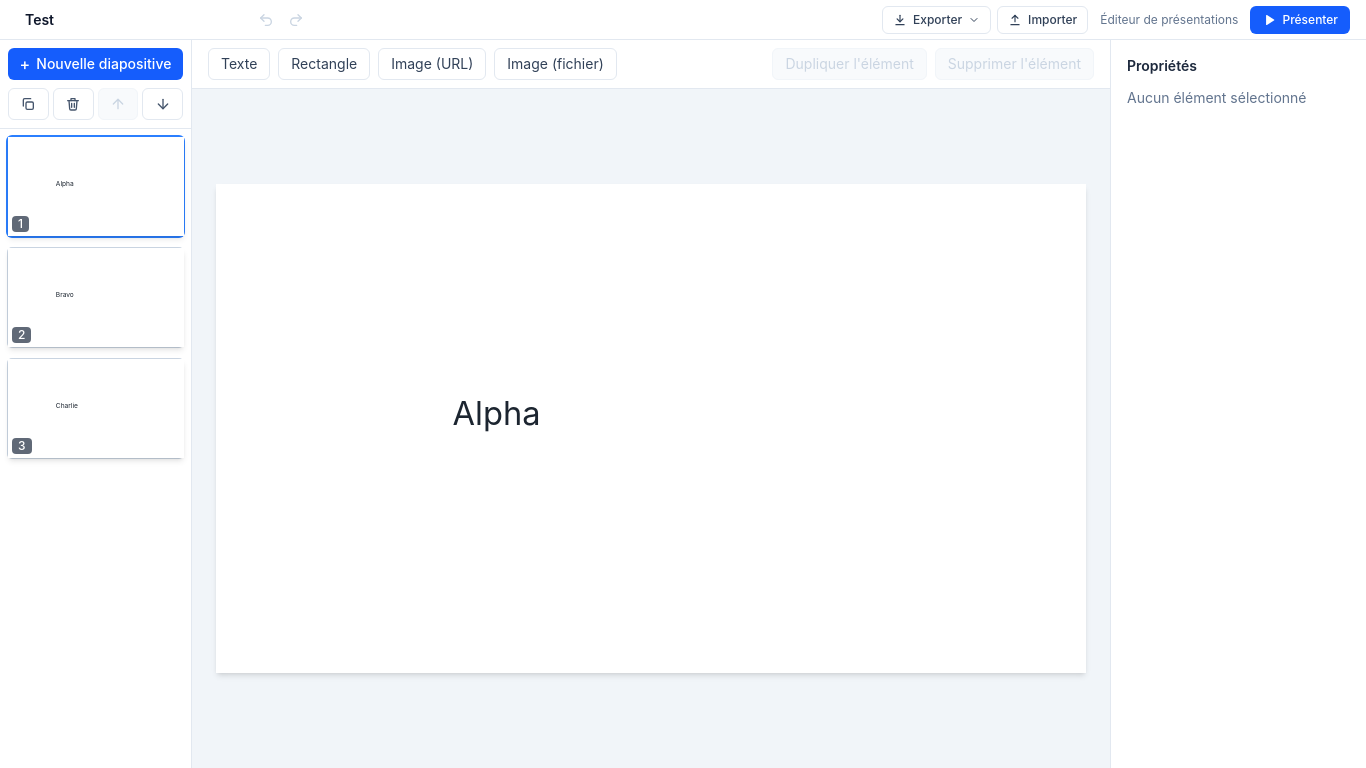
EditorLayout : gestion des diapositives › désactive Supprimer quand il ne reste qu'une diapositive
Click the button named "Supprimer la diapositive": (73, 104) [53,88,94,120]
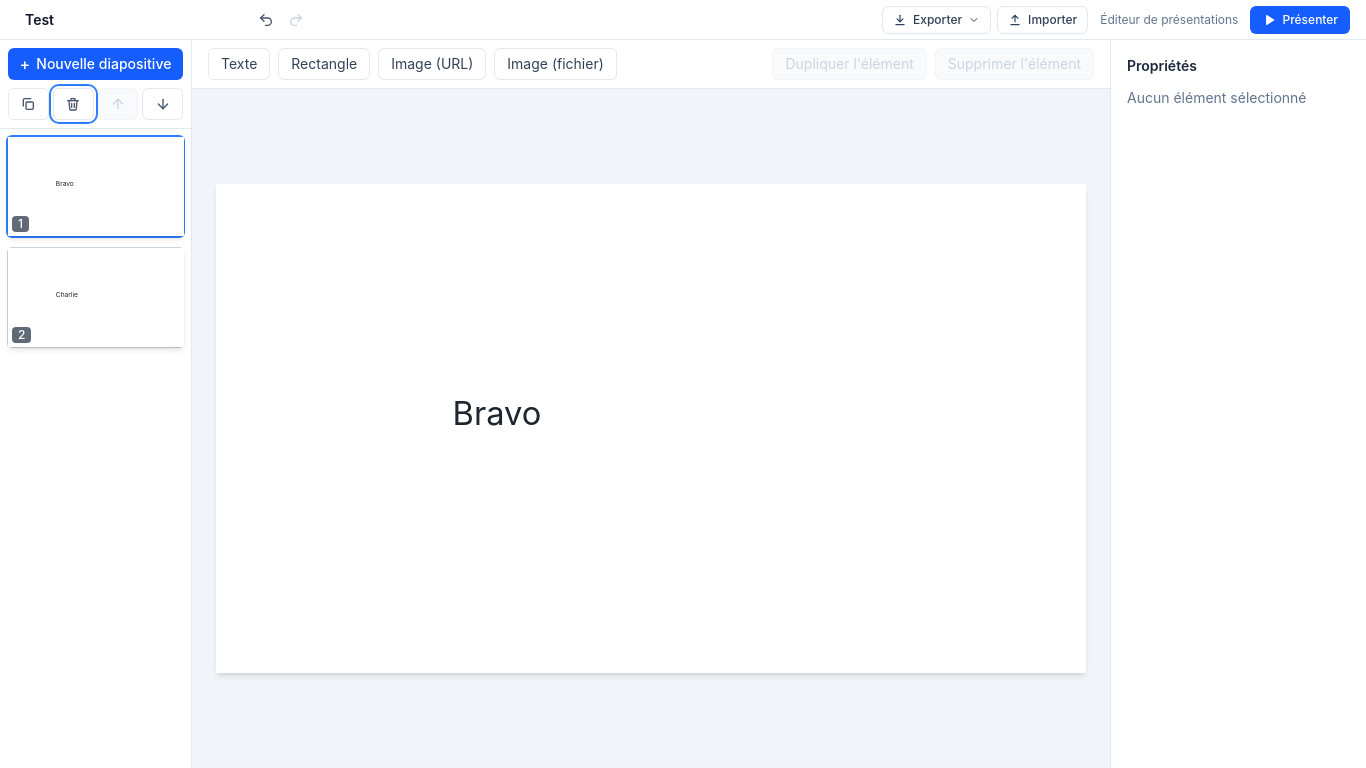
Click the button named "Supprimer la diapositive": (73, 104) [53,88,94,120]
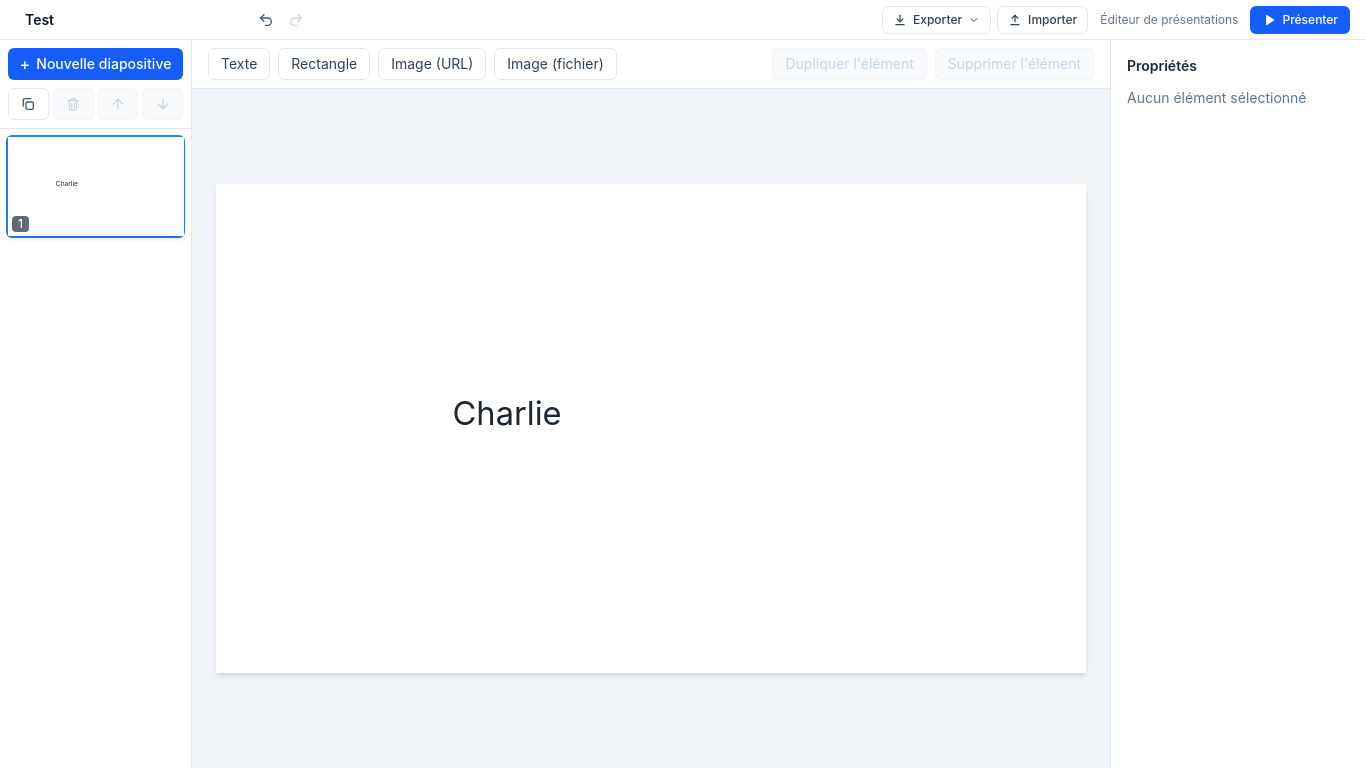
Expected: the button named "Supprimer la diapositive" is disabled, [53,88,94,120]
